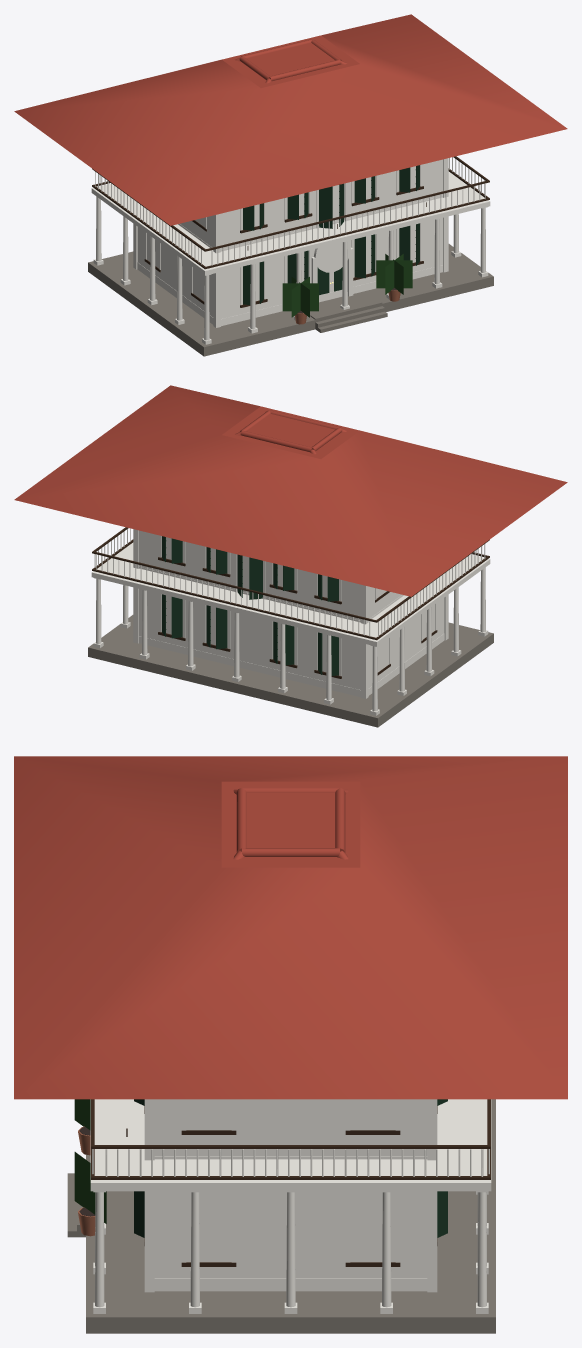
File: french-villa.glb
3 renders of one model, top to bottom at view 1: azimuth 30°, elevation 25°; view 2: azimuth 150°, elevation 25°; view 3: azimuth 270°, elevation 25°, orthographic. The views are drawn at different scales.
Visible parts, largest first — view 1: Mesh_Roof_Body, Mesh_Plinth, Mesh_BalconyFloor, Mesh_Wall2F_Front, Mesh_Wall1F_Front, Mesh_Leaves (×2), Mesh_Wall1F_Right, Mesh_Roof_TopCap, Mesh_BaseMolding, Mesh_ShR_B (×2), Mesh_RailTopFront, Mesh_RailBotFront (+7 smaller); view 2: Mesh_Roof_Body, Mesh_Plinth, Mesh_BalconyFloor, Mesh_Wall1F_Back, Mesh_Wall2F_Back, Mesh_Wall1F_Right, Mesh_BaseMolding, Mesh_Roof_TopCap, Mesh_ShL_B (×3), Mesh_RailTopBack, Mesh_RailBotBack, Mesh_FloorMolding (+2 smaller); view 3: Mesh_Roof_Body, Mesh_Plinth, Mesh_Wall1F_Left, Mesh_BalconyFloor, Mesh_Wall2F_Left, Mesh_Shaft (×5), Mesh_Roof_TopCap, Mesh_BaseMolding, Mesh_RailTopLeft, Mesh_RailBotLeft, Mesh_Pilaster1F_FL, Mesh_Pilaster1F_BL (+3 smaller).
Part boxes in pixels (bbox=[...]): Mesh_Roof_Body: bbox=[14, 14, 567, 225]; Mesh_Plinth: bbox=[88, 244, 493, 356]; Mesh_BalconyFloor: bbox=[91, 171, 490, 275]; Mesh_Wall2F_Front: bbox=[221, 159, 442, 249]; Mesh_Wall1F_Front: bbox=[221, 218, 442, 318]; Mesh_Leaves (×2): bbox=[282, 254, 412, 317]; Mesh_Wall1F_Right: bbox=[137, 227, 213, 317]; Mesh_Roof_TopCap: bbox=[247, 43, 334, 76]; Mesh_BaseMolding: bbox=[137, 262, 442, 326]; Mesh_ShR_B (×2): bbox=[319, 186, 365, 278]; Mesh_RailTopFront: bbox=[204, 180, 489, 251]; Mesh_RailBotFront: bbox=[204, 197, 489, 268]; Mesh_Roof_Body: bbox=[14, 385, 567, 596]; Mesh_Plinth: bbox=[88, 615, 493, 727]; Mesh_BalconyFloor: bbox=[91, 542, 490, 646]; Mesh_Wall1F_Back: bbox=[139, 589, 360, 689]; Mesh_Wall2F_Back: bbox=[139, 530, 360, 620]; Mesh_Wall1F_Right: bbox=[368, 598, 444, 688]; Mesh_BaseMolding: bbox=[139, 633, 444, 697]; Mesh_Roof_TopCap: bbox=[247, 414, 334, 447]; Mesh_ShL_B (×3): bbox=[171, 557, 262, 649]; Mesh_RailTopBack: bbox=[92, 551, 377, 622]; Mesh_RailBotBack: bbox=[92, 568, 377, 640]; Mesh_FloorMolding: bbox=[139, 566, 403, 622]; Mesh_Roof_Body: bbox=[14, 756, 567, 1099]; Mesh_Plinth: bbox=[86, 1099, 495, 1333]; Mesh_Wall1F_Left: bbox=[154, 1191, 427, 1278]; Mesh_BalconyFloor: bbox=[90, 1099, 491, 1191]; Mesh_Wall2F_Left: bbox=[154, 1099, 427, 1155]; Mesh_Shaft (×5): bbox=[95, 1192, 486, 1307]; Mesh_Roof_TopCap: bbox=[246, 793, 335, 847]; Mesh_BaseMolding: bbox=[154, 1278, 427, 1291]; Mesh_RailTopLeft: bbox=[91, 1145, 490, 1148]; Mesh_RailBotLeft: bbox=[91, 1176, 490, 1179]; Mesh_Pilaster1F_FL: bbox=[144, 1191, 154, 1292]; Mesh_Pilaster1F_BL: bbox=[427, 1191, 437, 1292].
Bounding box in the file's own units: 17.82 × 9.46 × 12.16.
